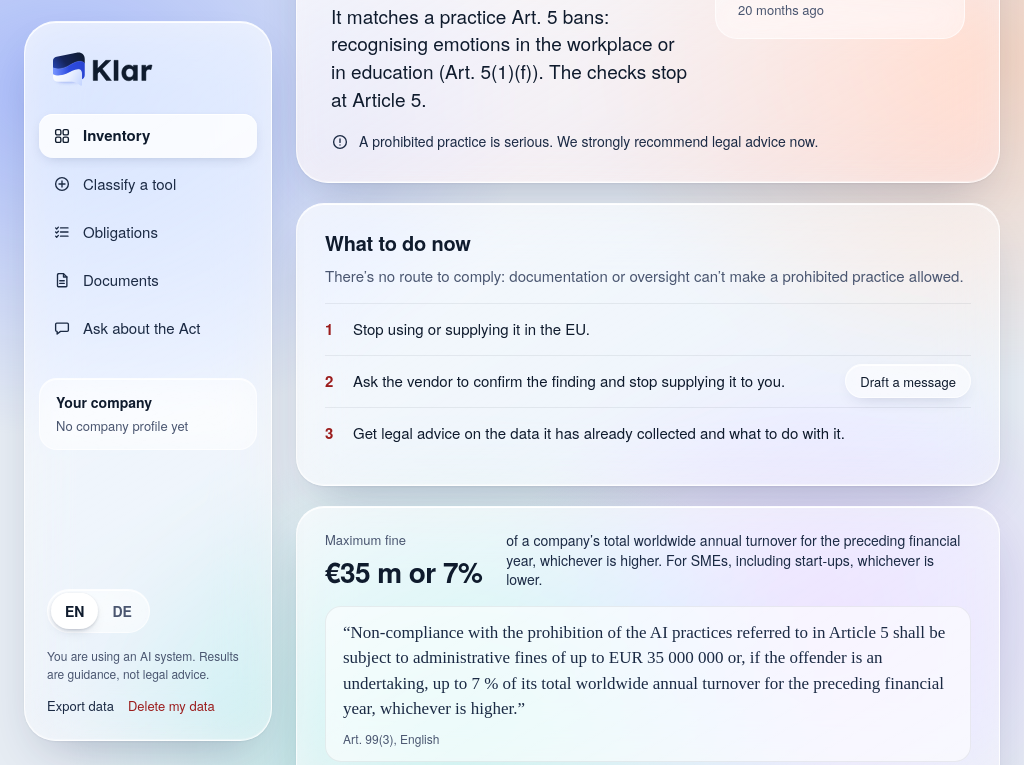
A recorded prohibited result (en) › opens the drafted message to the vendor
(page scrolled)
Click the button "Draft a message" at (908, 382), box [845, 364, 971, 398]
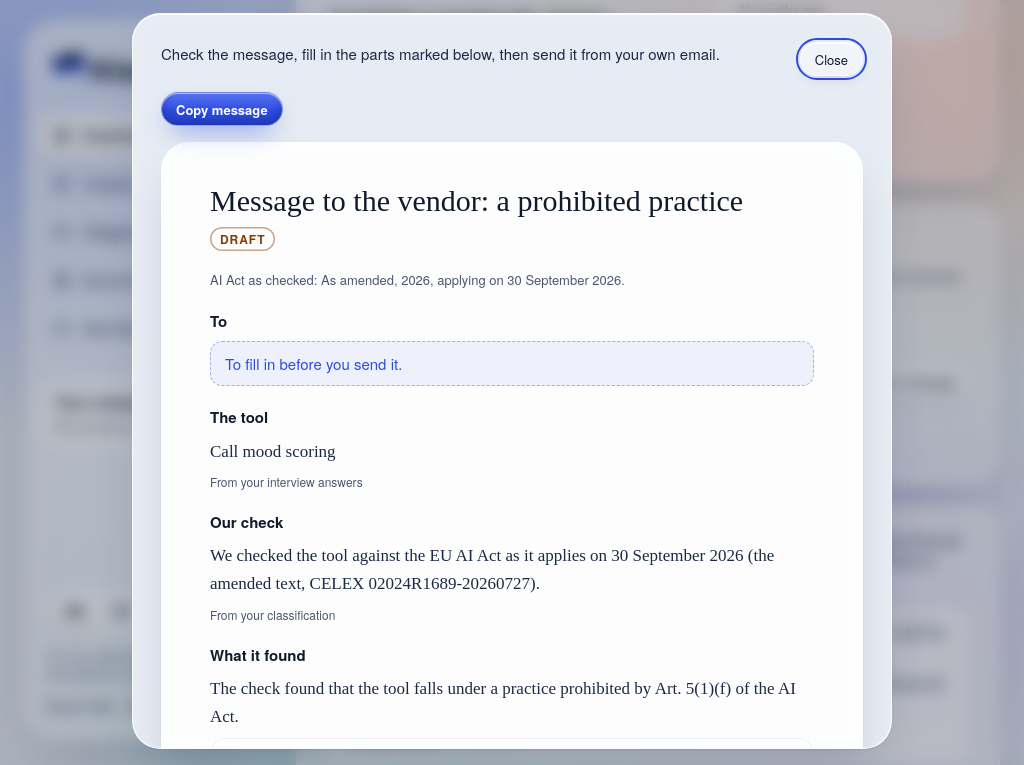
Check: the heading "Message to the vendor: a prohibited practice" is shown, box [210, 183, 743, 219]
Check: the text "DRAFT" is shown, box [210, 227, 276, 251]
Check: the text "Check the message, fill in the parts marked below, then send it from your own email." is shown, box [161, 43, 720, 64]
Click the button "Close" at (831, 59), box [800, 42, 863, 76]
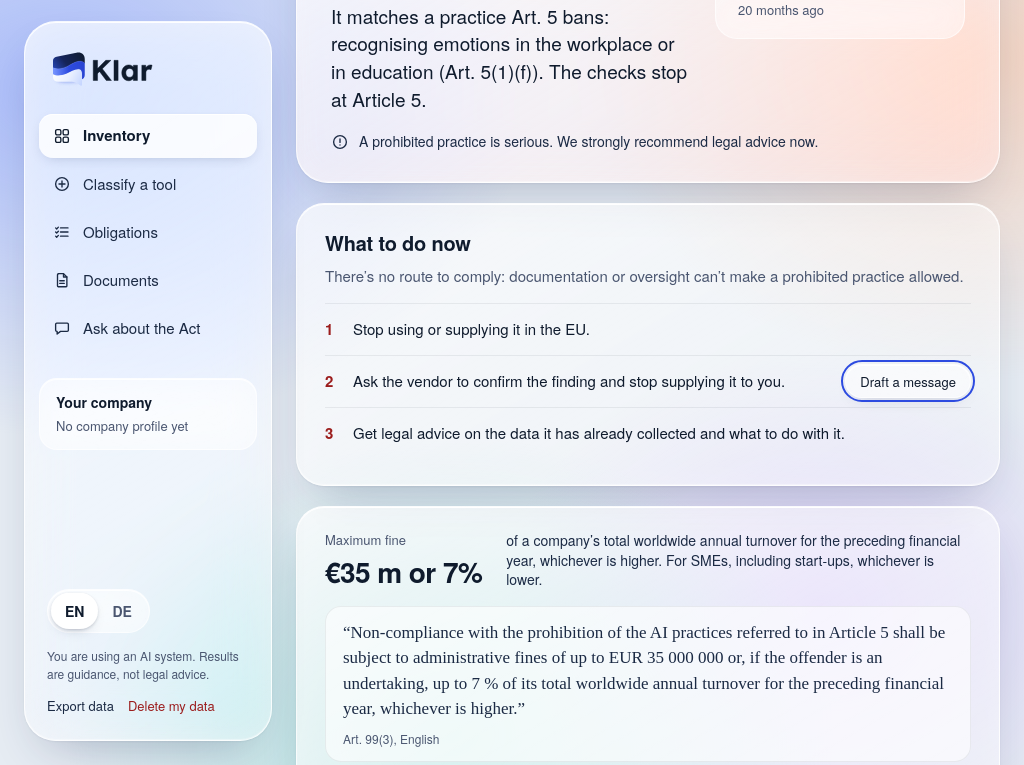
Check: the button "Draft a message" is shown, box [845, 364, 971, 398]
Check: the dialog is gone
